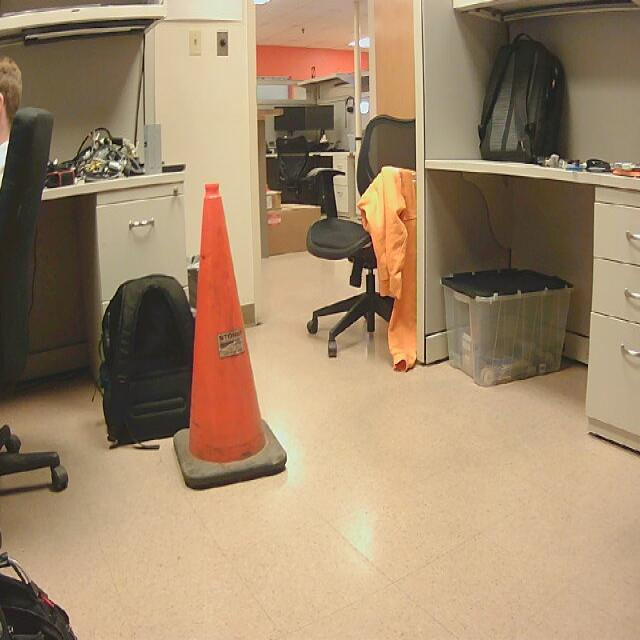traffic cone: (174, 184, 289, 494)
